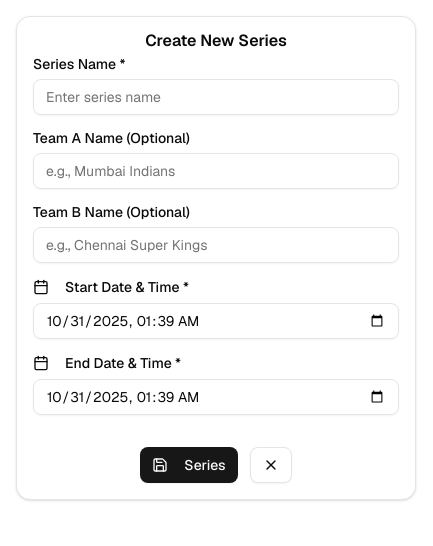
Test: SeriesForm › should clear validation errors when user types
Click the button "Series": point(189, 465) 140,447 -> 238,483
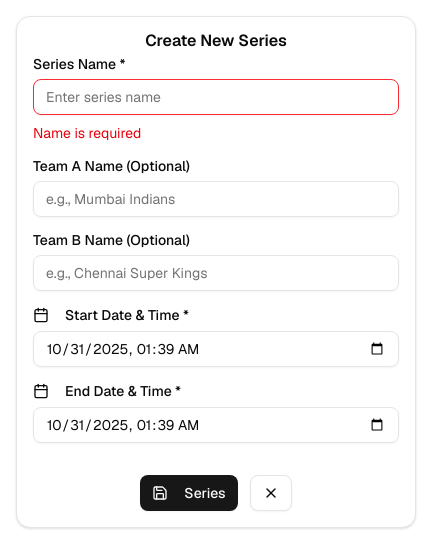
Now the text "Name is required" is shown, box 33,124 -> 141,142
In the field labelled "Series Name *": point(216, 97) 33,79 -> 399,115, type "Test Series"
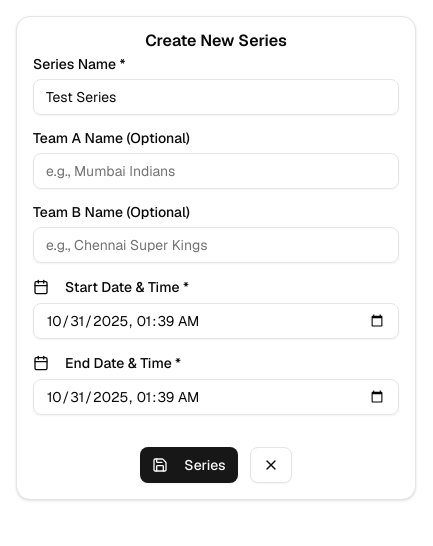
Now the text "Name is required" is gone
